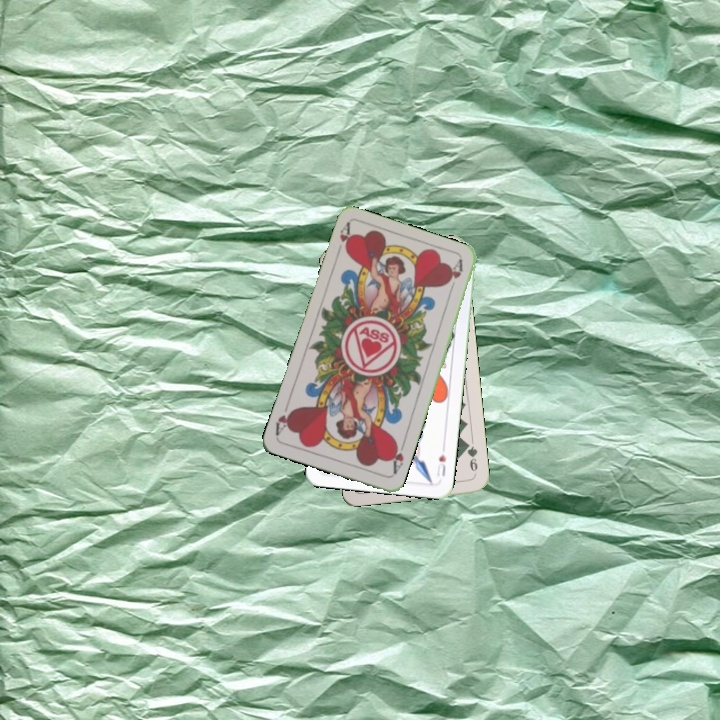G9: (462, 438, 480, 478)
HA: (332, 220, 355, 259), (386, 438, 408, 477)
HU: (432, 442, 448, 479)
